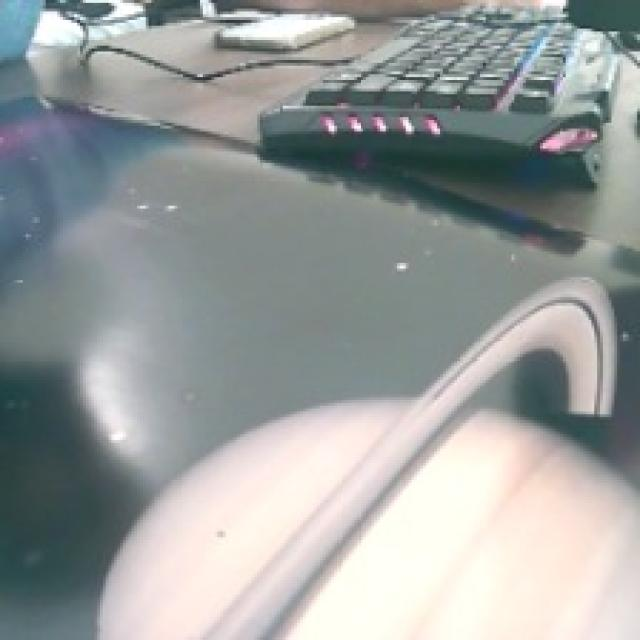Saturn: (91, 265, 639, 640)
